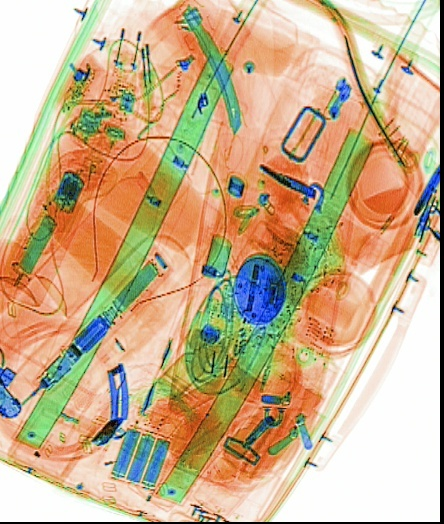powerbank: (103, 407, 184, 495)
